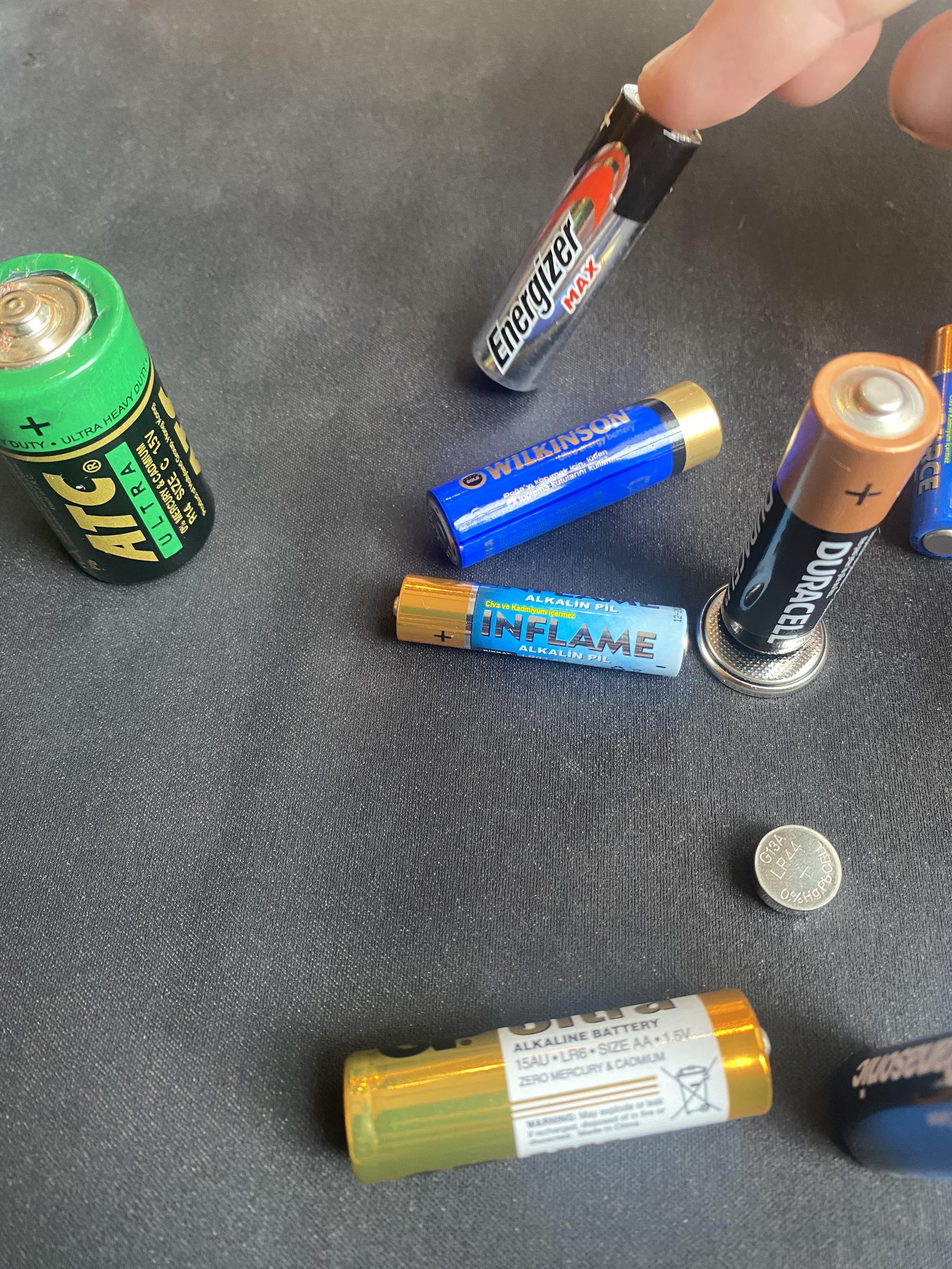AA: (470, 81, 703, 393), (730, 346, 941, 636)
AAA: (392, 572, 689, 678)
